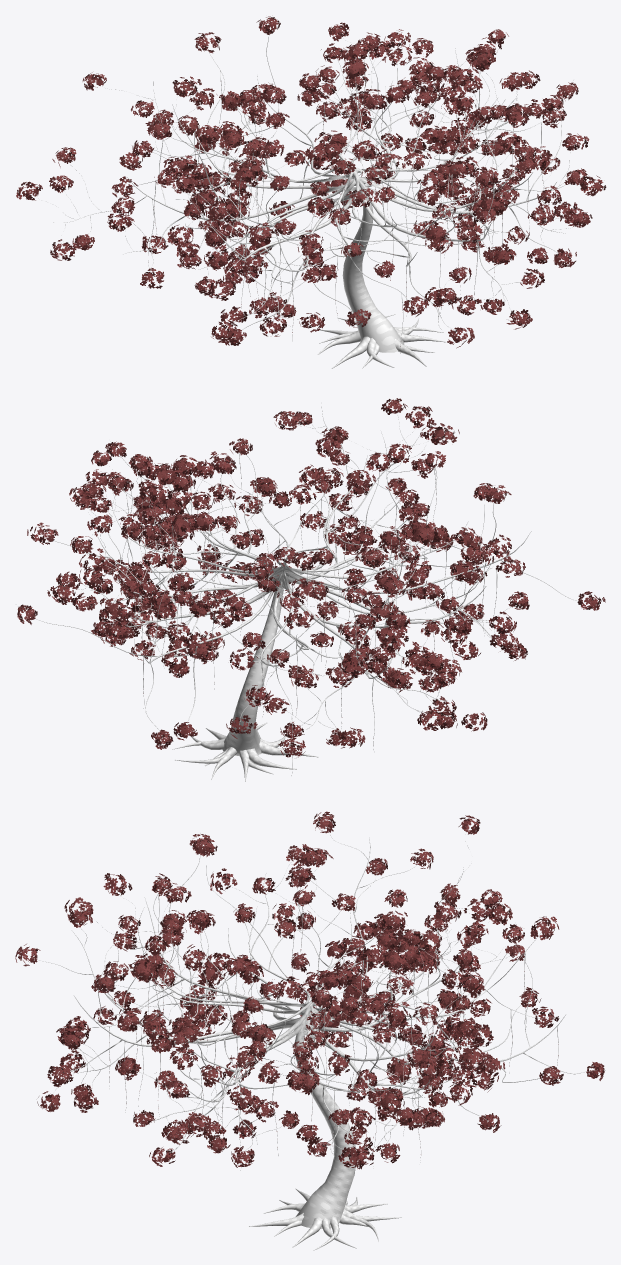
File: tree.gltf
3 renders of one model, top to bottom at view 1: azimuth 30°, elevation 25°; view 2: azimuth 150°, elevation 25°; view 3: azimuth 270°, elevation 25°, orthographic. The views are drawn at different scales.
Parts seen in each view (by area): view 1: Tree_LOD0; view 2: Tree_LOD0; view 3: Tree_LOD0.
Boxes of the visible parts, x1,y1,x2,y2 form: Tree_LOD0: (16, 16, 606, 368); Tree_LOD0: (15, 398, 605, 781); Tree_LOD0: (15, 811, 605, 1250).
Bounding box in the file's own units: 234 × 135 × 245.
2 materials, 2 textured.
